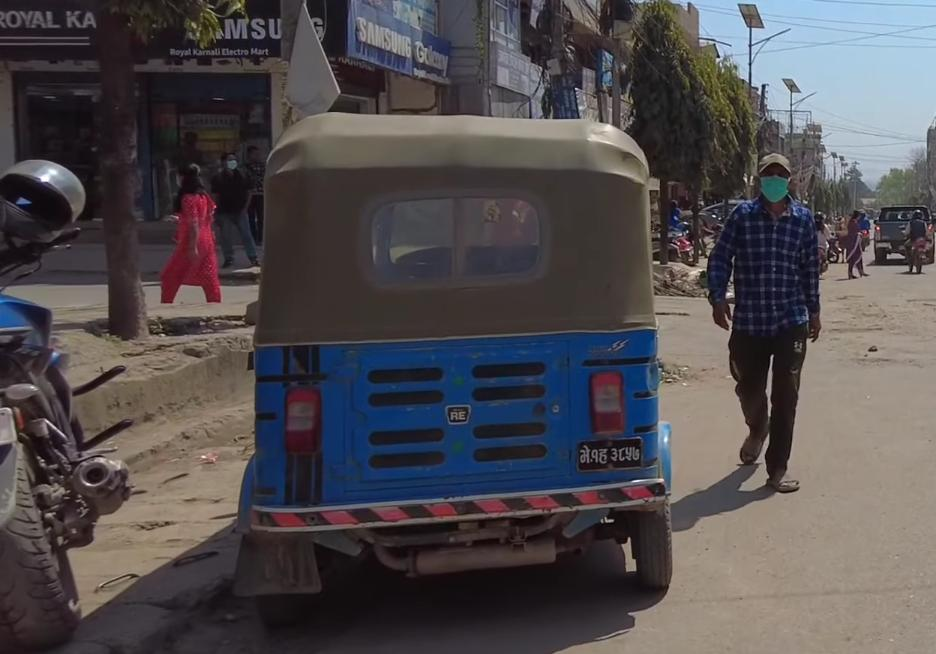auto_rickshaw: (235, 99, 693, 632)
